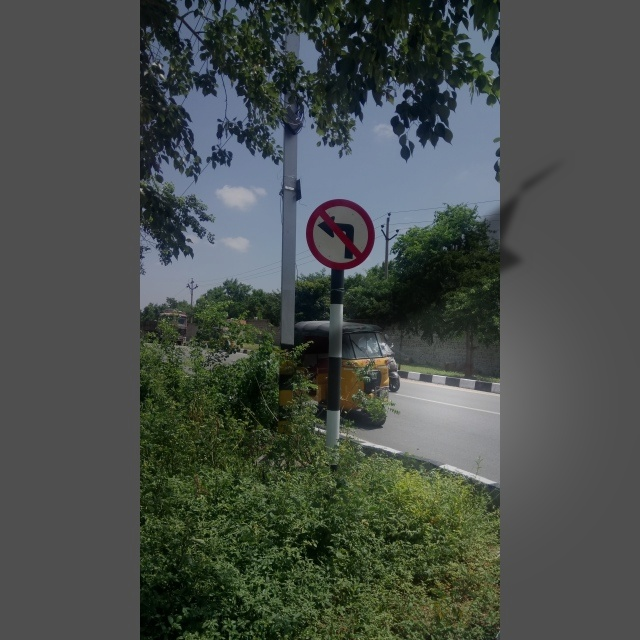Left_Turn_Prohibited: (304, 198, 379, 273)
